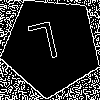L: (26, 21, 63, 71)
